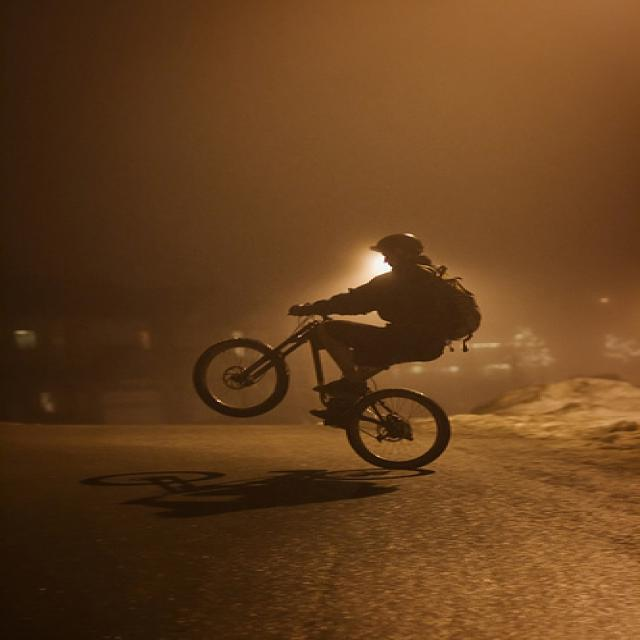Bicycle: (187, 328, 451, 502)
People: (354, 213, 473, 375)
